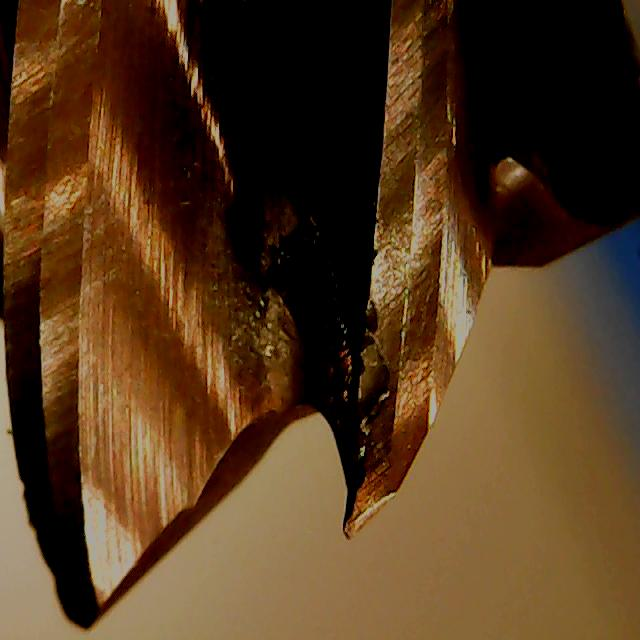Tool-wear-class-2: (317, 215, 467, 543)
